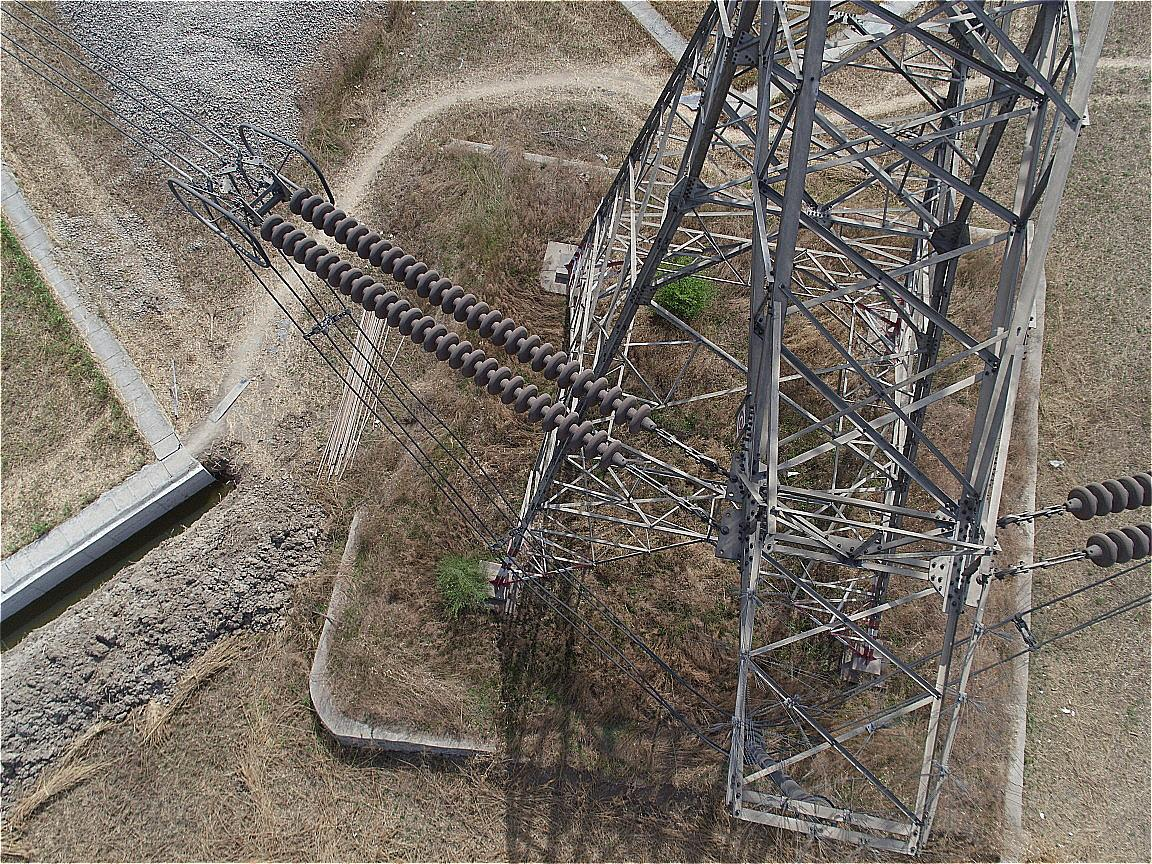insultor1: (261, 189, 650, 469)
